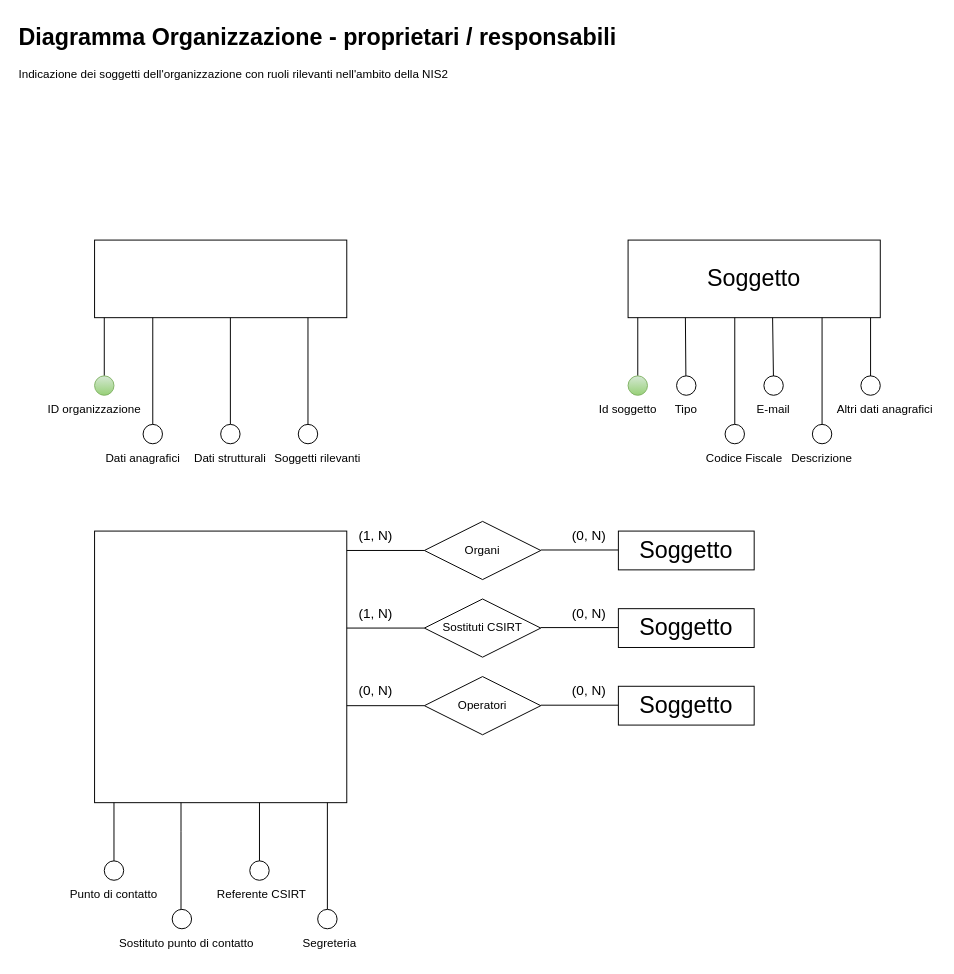
This 954x974 diagram has some shape labels left out. Each missing label, with the centre of its shape:
"Organizzazione" goes at point 220,278.
"Organizzazione - Soggetti rilevanti" goes at point 220,666.
